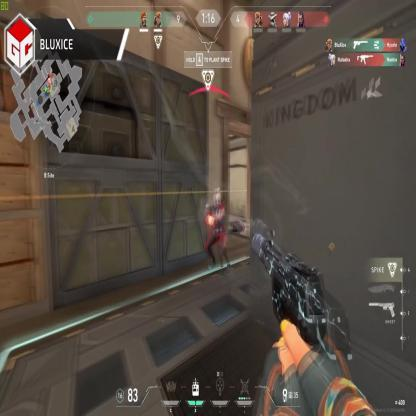enemy: (206, 193, 230, 272)
enemy_head: (214, 192, 221, 210)
